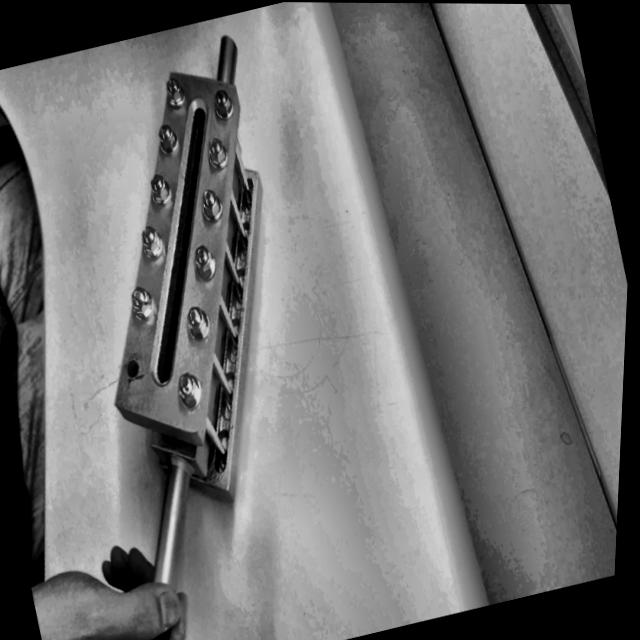ShuiWeiQi_11: (27, 15, 363, 532)
